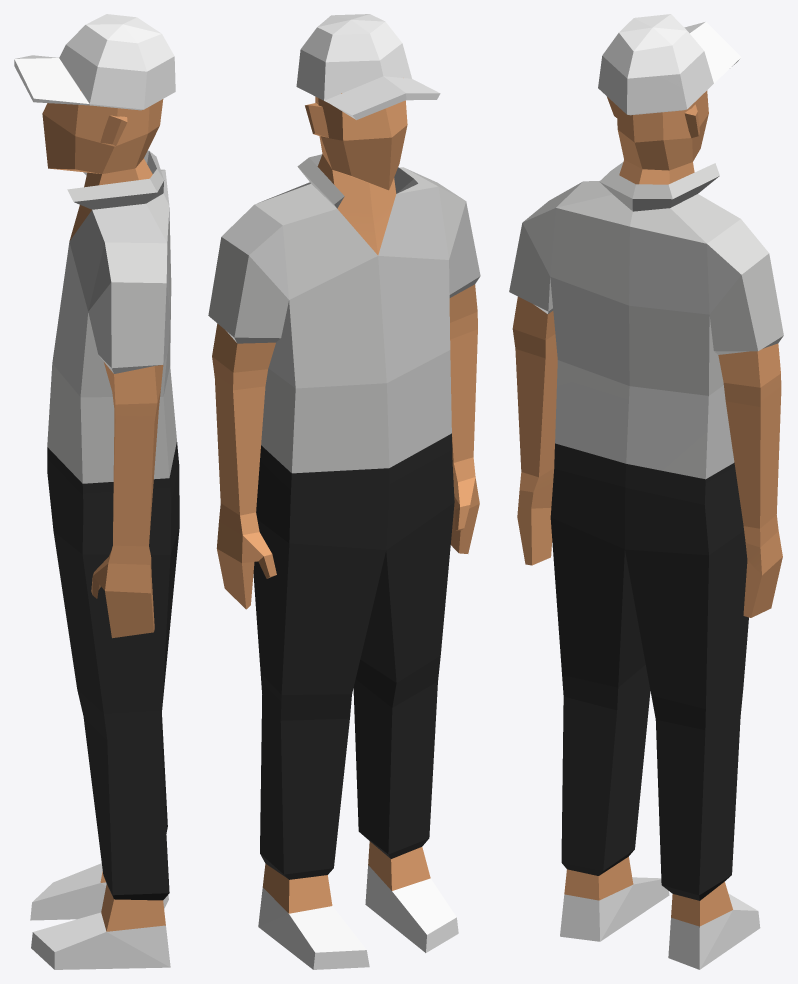
Rendered from man_golf__1_.obj.
3 renders of one model, left to right at view 1: azimuth 30°, elevation 25°; view 2: azimuth 150°, elevation 25°; view 3: azimuth 270°, elevation 25°, orthographic.
Visible parts, largest first — view 1: man_golf__1__Scene.014; view 2: man_golf__1__Scene.014; view 3: man_golf__1__Scene.014.
Part boxes in pixels (x1,y1,x2,y2): man_golf__1__Scene.014: [14, 14, 179, 969]; man_golf__1__Scene.014: [208, 14, 480, 969]; man_golf__1__Scene.014: [509, 14, 783, 969].
Bounding box in the file's own units: 0.3815 × 1.84 × 0.5057.
